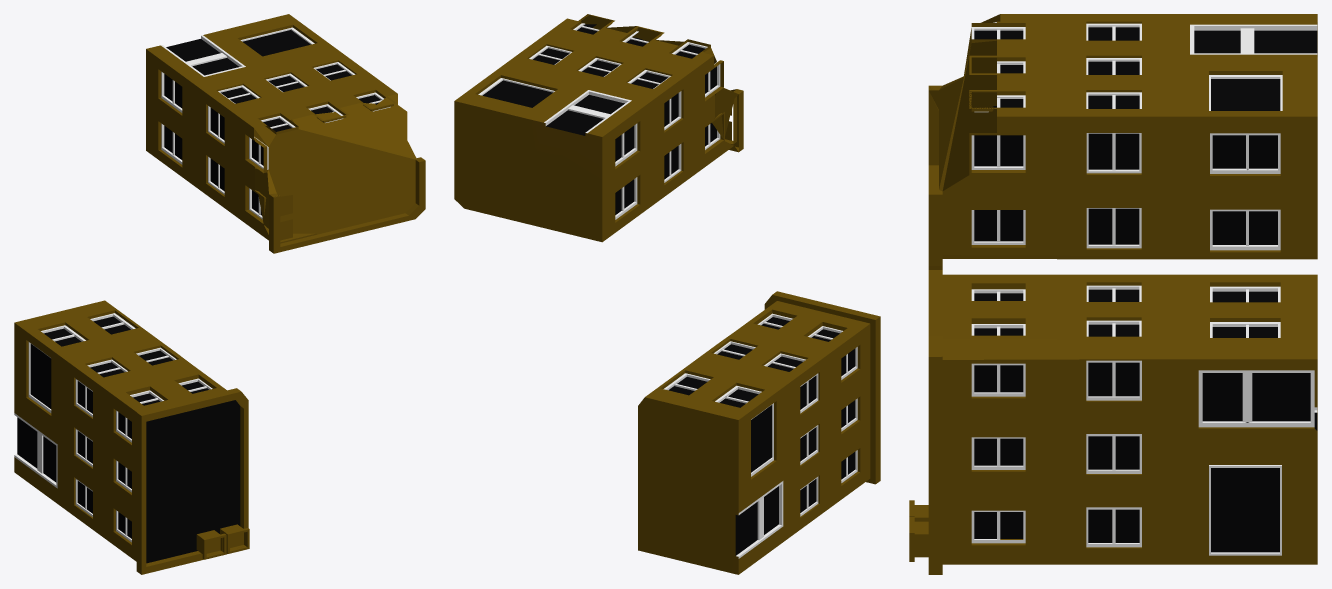
Rendered from buildings.obj.
3 renders of one model, left to right at view 1: azimuth 30°, elevation 25°; view 2: azimuth 150°, elevation 25°; view 3: azimuth 270°, elevation 25°, orthographic. The views are drawn at different scales.
Visible parts, largest first — view 1: Plane.146; view 2: Plane.146; view 3: Plane.146.
Boxes of the visible parts, x1,y1,x2,y2 form: Plane.146: (14, 14, 425, 574); Plane.146: (454, 14, 880, 574); Plane.146: (909, 14, 1317, 574).
Bounding box in the file's own units: 0.563 × 0.7494 × 0.4765.
